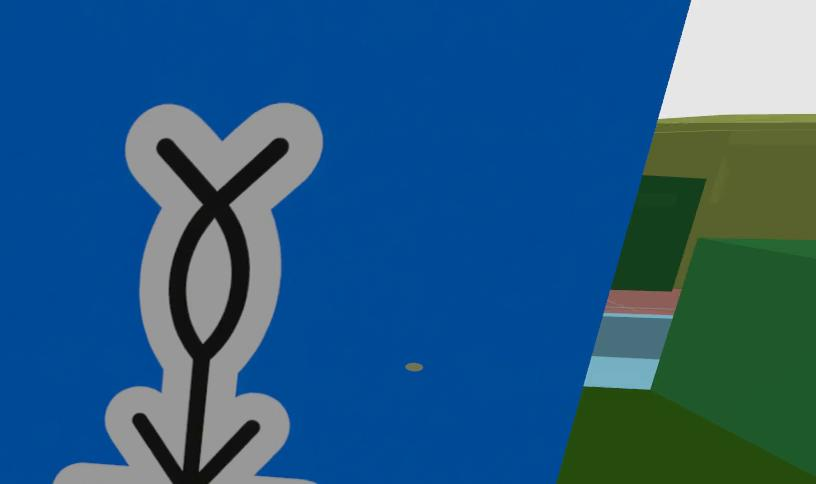KFS_REAL: (0, 0, 688, 484), (53, 103, 321, 484)
